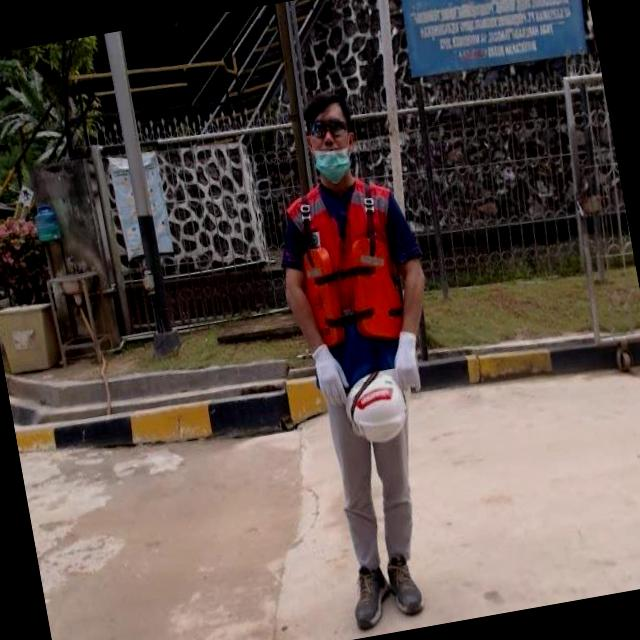boots: (342, 556, 394, 636), (382, 545, 424, 619)
gloves: (281, 313, 364, 428), (371, 310, 438, 398)
helmet: (341, 365, 416, 447)
no-helmet: (289, 96, 373, 224)
vest: (280, 171, 420, 388)
